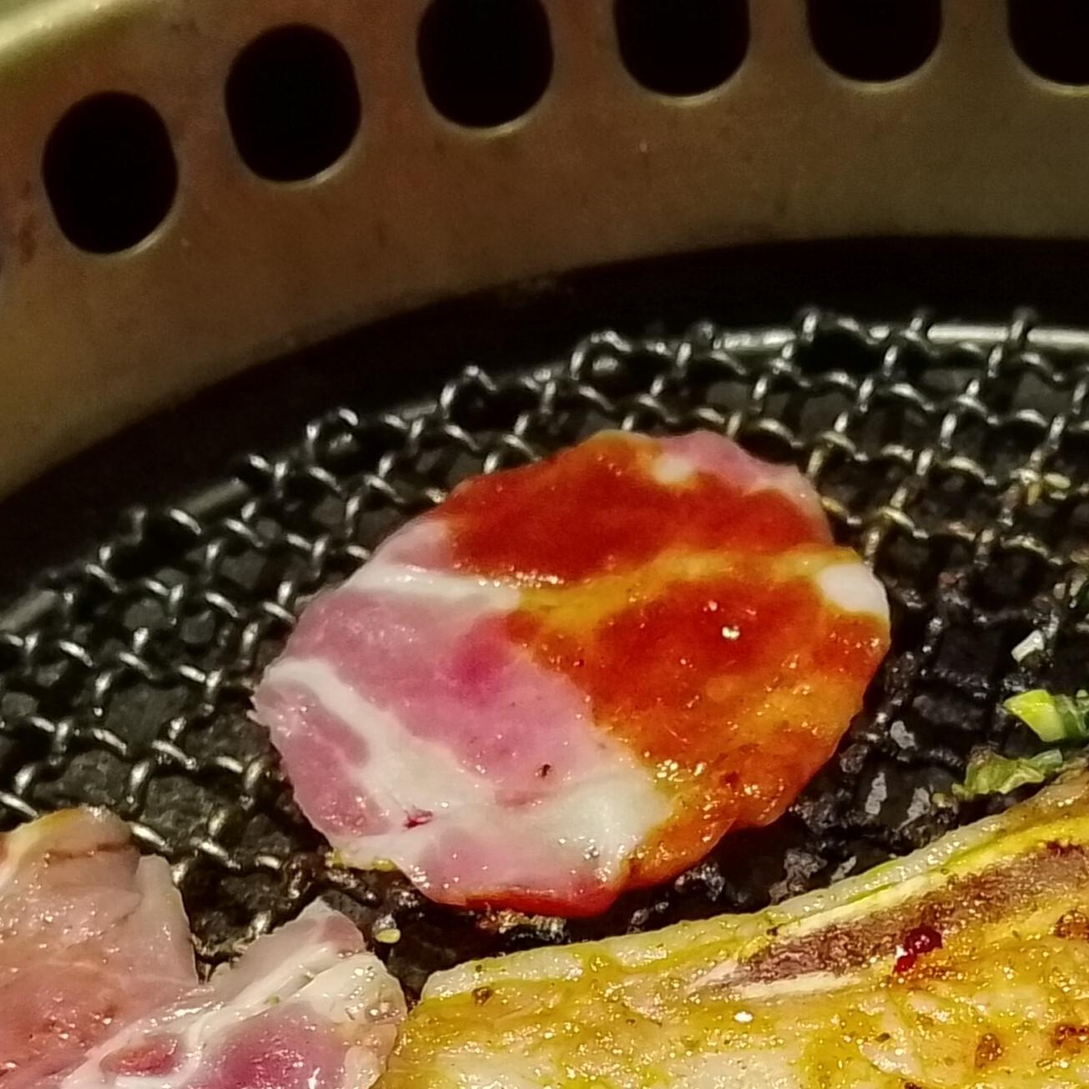Undercooked: (253, 433, 889, 914), (0, 808, 383, 1088)
Well-Cooked: (376, 759, 1088, 1088)
